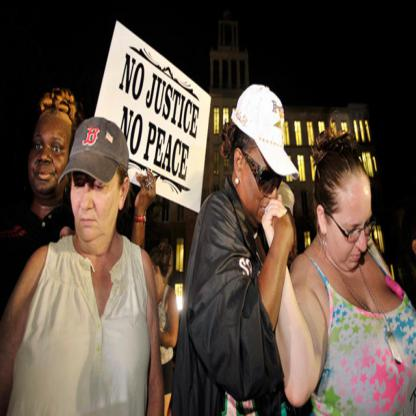face: (330, 172, 373, 271), (69, 162, 119, 240), (28, 111, 72, 196), (245, 137, 280, 219)
